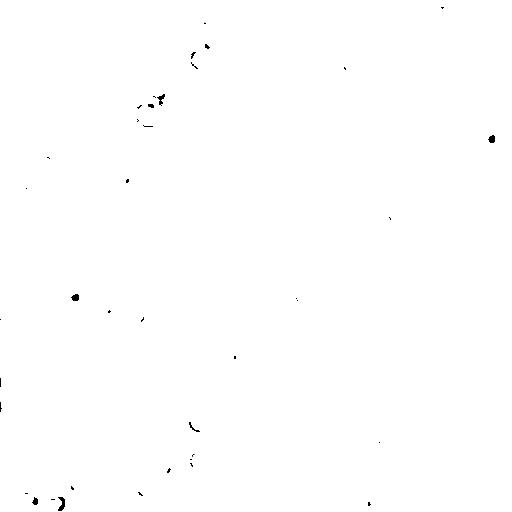micro-algae: (96, 17, 207, 115), (343, 211, 409, 273), (192, 115, 252, 172), (465, 127, 511, 197), (389, 447, 442, 501), (357, 0, 407, 50), (333, 318, 368, 353), (159, 459, 195, 492), (185, 6, 218, 41), (114, 162, 147, 195), (198, 23, 231, 55), (98, 295, 127, 326), (59, 281, 91, 309), (475, 123, 504, 153), (325, 53, 357, 80), (47, 432, 74, 462), (150, 409, 176, 440), (231, 350, 262, 376), (263, 443, 288, 475), (373, 425, 399, 451), (242, 293, 269, 317), (356, 484, 379, 512), (187, 449, 213, 473), (133, 103, 159, 126), (68, 467, 90, 494), (33, 155, 57, 179), (429, 0, 461, 18), (0, 378, 19, 408), (188, 47, 215, 68), (213, 352, 237, 375), (135, 478, 161, 498), (45, 12, 73, 30), (295, 312, 319, 333), (161, 87, 180, 113), (188, 411, 209, 434), (13, 1, 46, 15), (295, 282, 315, 304), (387, 207, 407, 229), (161, 1, 193, 14), (155, 45, 175, 64), (132, 305, 149, 327), (45, 495, 67, 511), (21, 491, 39, 507), (14, 180, 30, 196), (154, 463, 169, 480)
